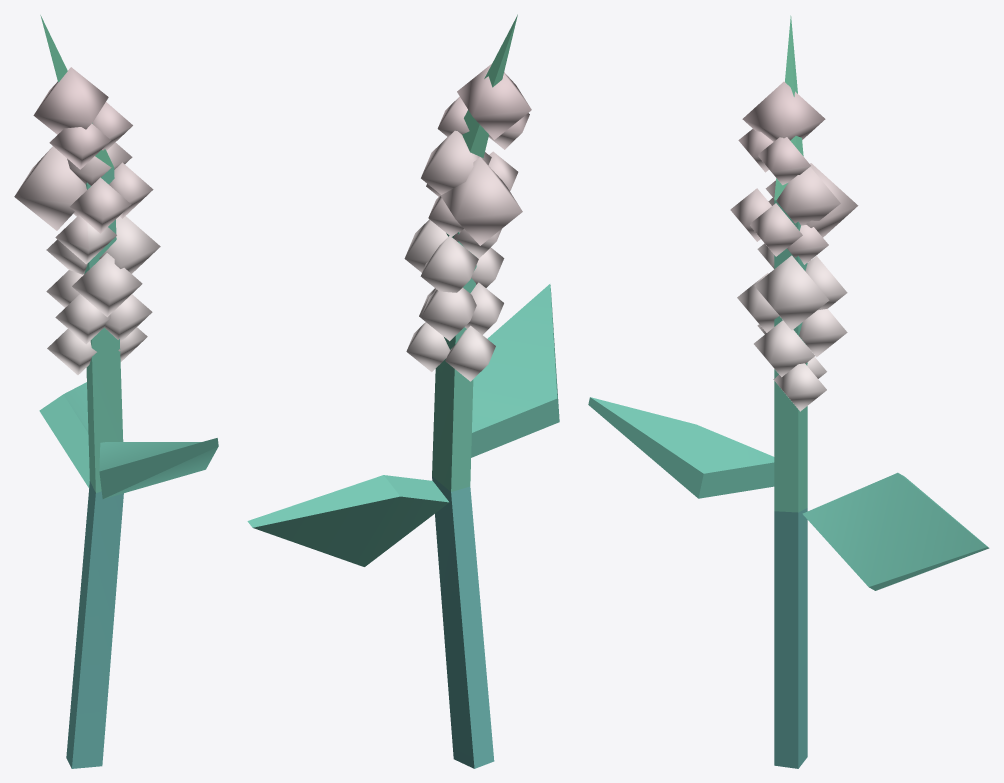
The model's file is snowdrop_white.glb.
The picture shows the model from 3 angles, left to right: view 1: azimuth 30°, elevation 25°; view 2: azimuth 150°, elevation 25°; view 3: azimuth 270°, elevation 25°; orthographic projection. The views are drawn at different scales.
Parts seen in each view (by area): view 1: SnowDrop_white.001; view 2: SnowDrop_white.001; view 3: SnowDrop_white.001.
Boxes of the visible parts, <box> form: SnowDrop_white.001: <box>14,15,218,768</box>; SnowDrop_white.001: <box>247,14,559,768</box>; SnowDrop_white.001: <box>588,15,989,768</box>.
Size of the model in its own units: 0.1367 by 0.5384 by 0.2696.
